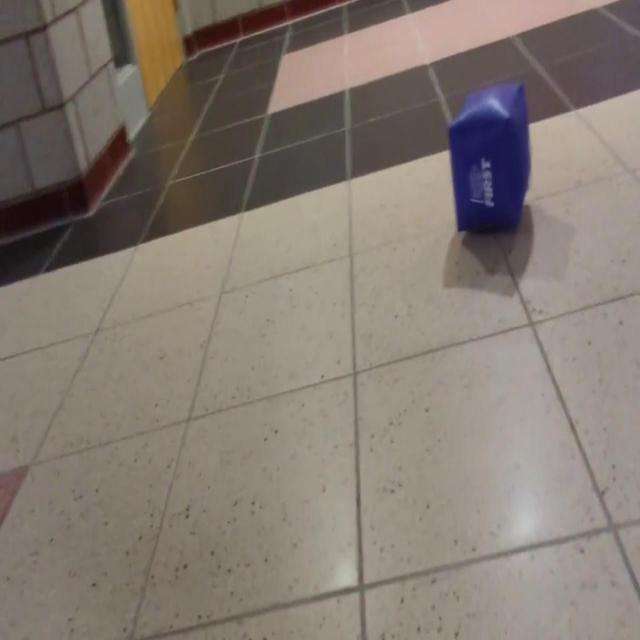frc_cube: (449, 82, 530, 236)
